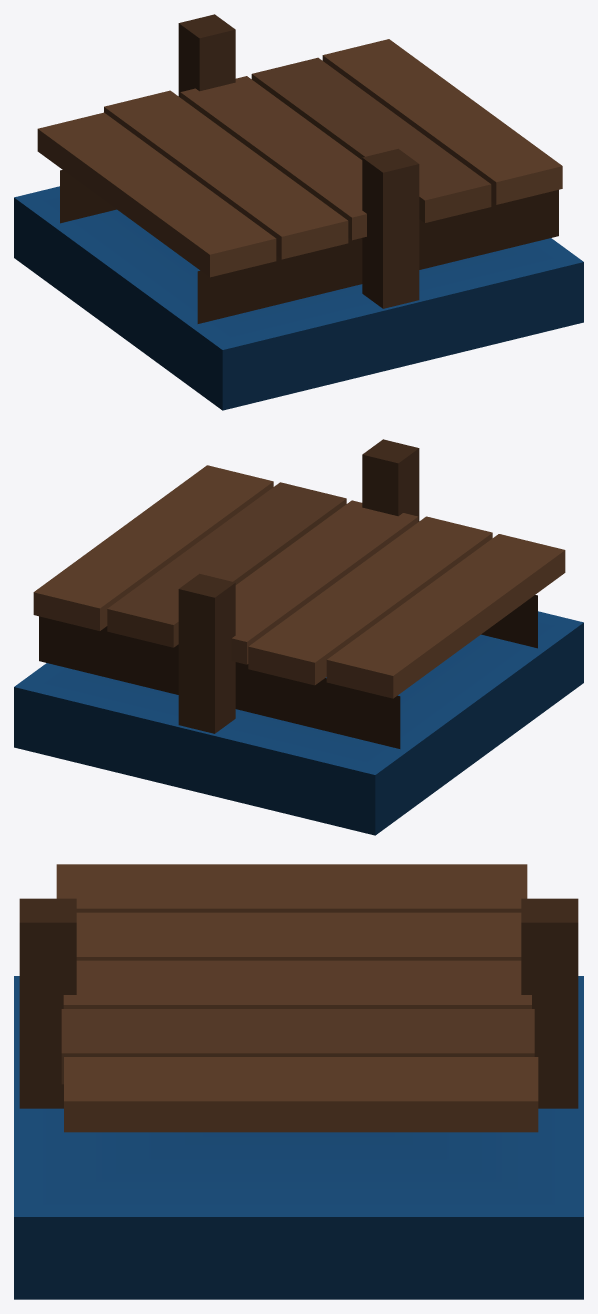
The model's file is tile_bridge.glb.
3 views of the same model, one above another, from view 1: azimuth 30°, elevation 25°; view 2: azimuth 150°, elevation 25°; view 3: azimuth 270°, elevation 25° (orthographic). The views are drawn at different scales.
Parts seen in each view (by area): view 1: tile_bridge; view 2: tile_bridge; view 3: tile_bridge.
Part boxes in pixels (box(x1,y1,x2,y2)): tile_bridge: box(14, 14, 583, 410); tile_bridge: box(14, 439, 583, 835); tile_bridge: box(14, 864, 583, 1299).
Size of the model in its own units: 1 by 0.52 by 1.
